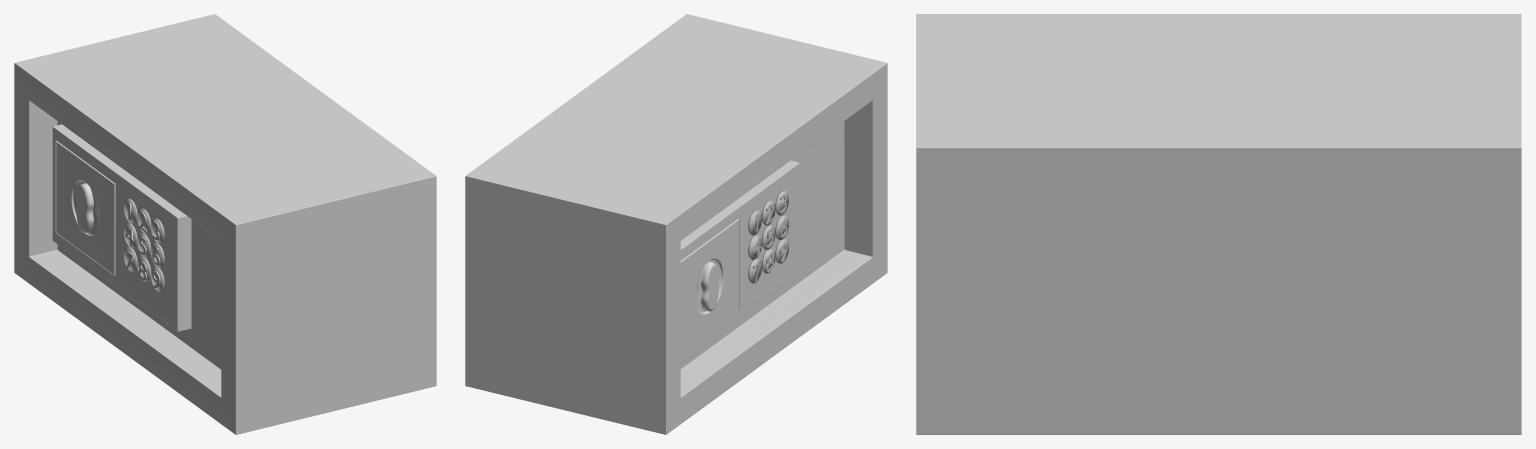
Rendered from Safe.fbx.
3 views of the same model, side by side, from view 1: azimuth 30°, elevation 25°; view 2: azimuth 150°, elevation 25°; view 3: azimuth 270°, elevation 25° (orthographic). The views are drawn at different scales.
Visible parts, largest first — view 1: Cube; view 2: Cube; view 3: Cube.
Boxes of the visible parts, bbox=[...] form: Cube: bbox=[14, 14, 436, 434]; Cube: bbox=[465, 14, 887, 434]; Cube: bbox=[916, 14, 1521, 434].
Bounding box in the file's own units: 200 × 200 × 382.
